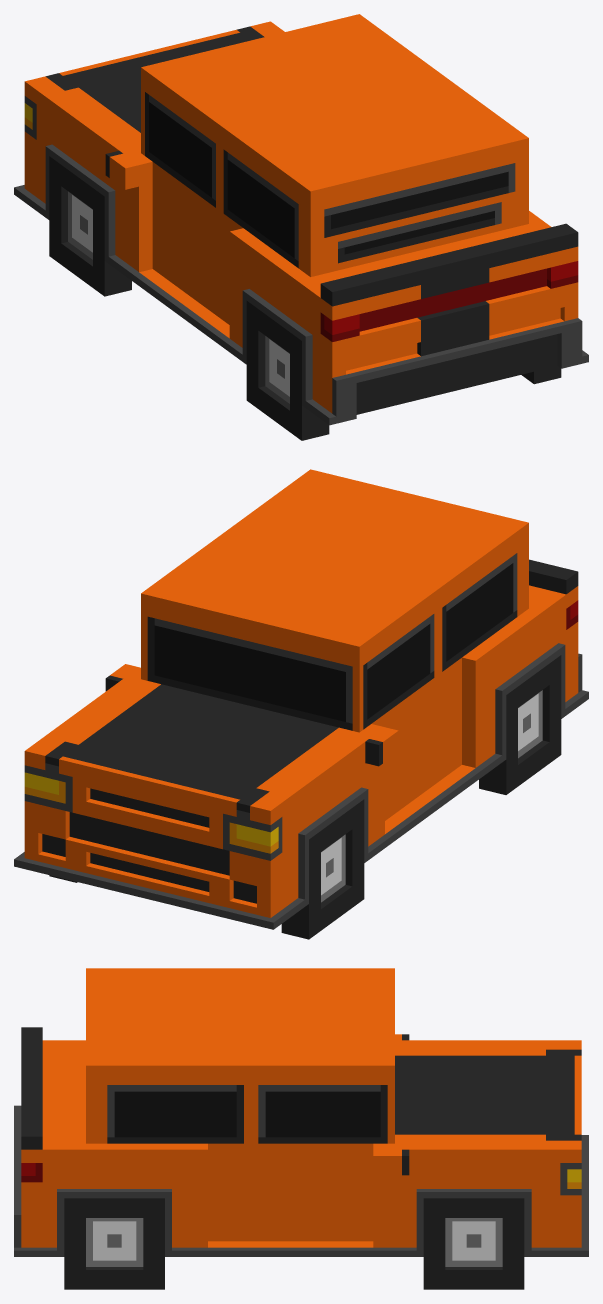
3 renders of one model, top to bottom at view 1: azimuth 30°, elevation 25°; view 2: azimuth 150°, elevation 25°; view 3: azimuth 270°, elevation 25°, orthographic. The views are drawn at different scales.
Parts seen in each view (by area): view 1: alll cars3-10; view 2: alll cars3-10; view 3: alll cars3-10.
Part boxes in pixels (left/top/right/bottom): alll cars3-10: left=14, top=14, right=588, bottom=440; alll cars3-10: left=14, top=469, right=588, bottom=939; alll cars3-10: left=14, top=968, right=588, bottom=1289.
Size of the model in its own units: 3.15 by 2.6 by 6.29.
Materials: 1 (1 with a texture image).
